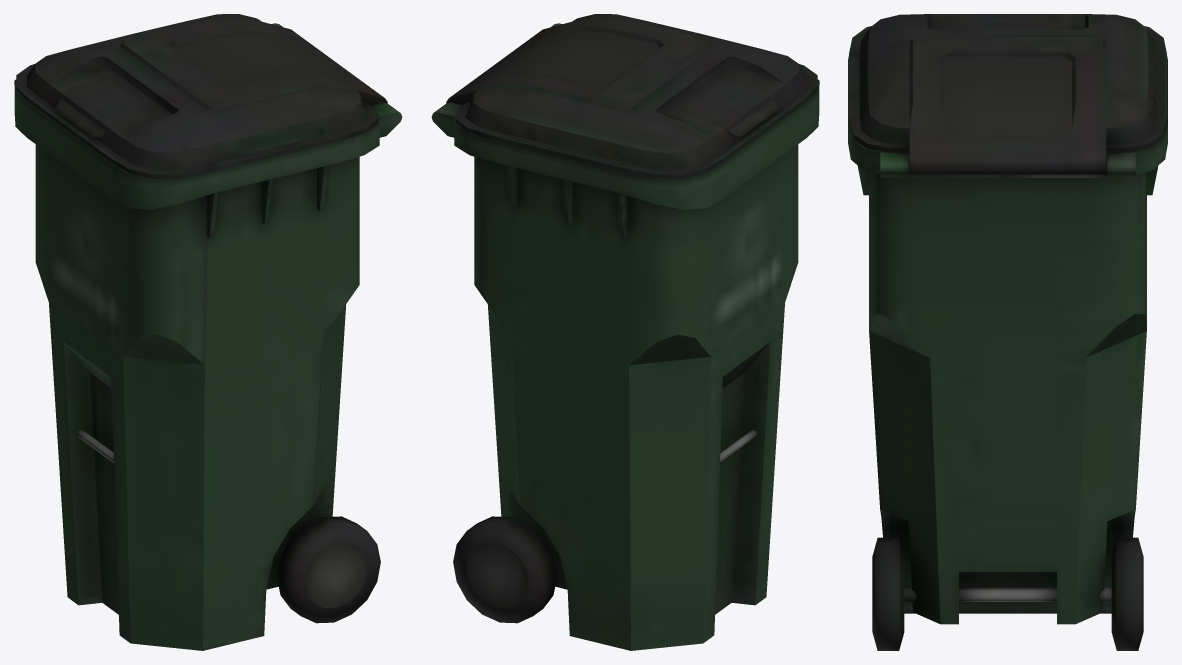
The model's file is bin.glb.
3 views of the same model, side by side, from view 1: azimuth 30°, elevation 25°; view 2: azimuth 150°, elevation 25°; view 3: azimuth 270°, elevation 25° (orthographic). The views are drawn at different scales.
Visible parts, largest first — view 1: TrashCan_Green; view 2: TrashCan_Green; view 3: TrashCan_Green.
Boxes of the visible parts, x1,y1,x2,y2 form: TrashCan_Green: (14,14,402,650); TrashCan_Green: (431,14,819,650); TrashCan_Green: (848,14,1167,650).
Bounding box in the file's own units: 0.5378 × 1 × 0.5213.
1 material, 1 textured.
